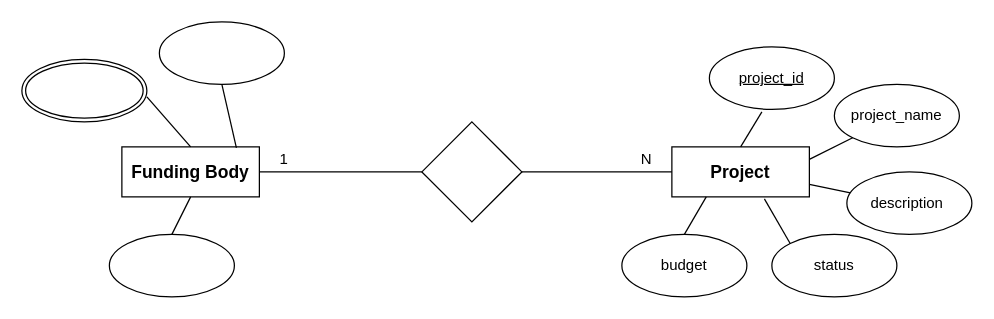
This 994x319 diagram has some shape labels left out. The centre of each missing label's shape, as x and y in pixels:
"funder_email" goes at (x=84, y=90).
"funder_id" goes at (x=221, y=52).
"funder_name" goes at (x=171, y=265).
"sponsor" goes at (x=471, y=171).
